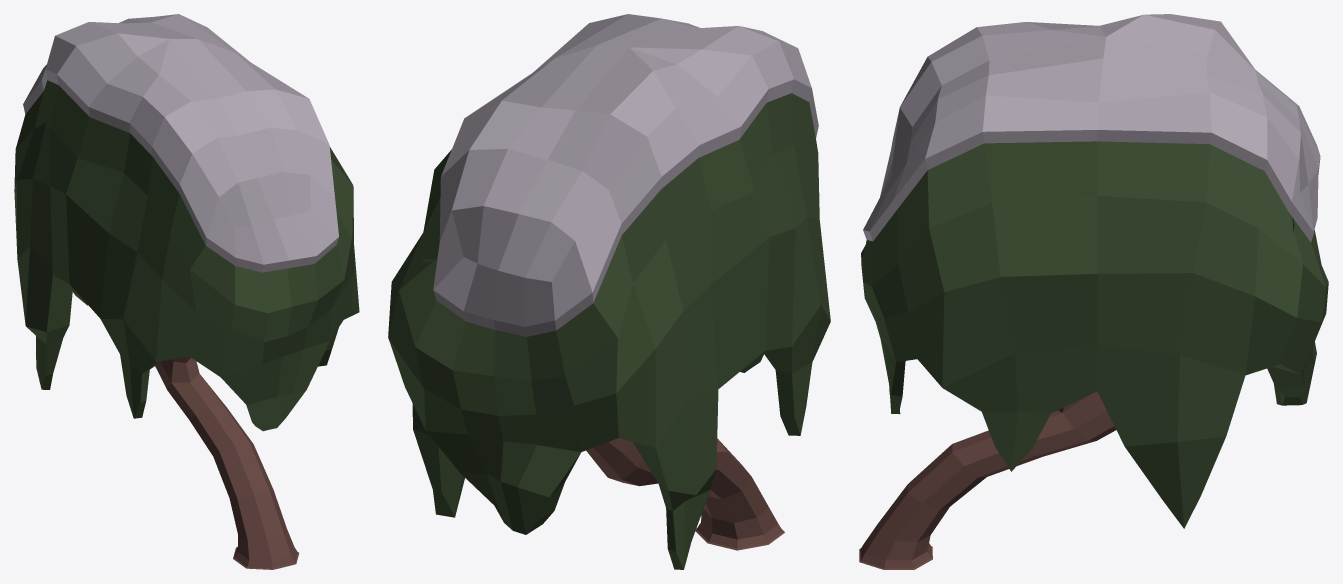
The model's file is Willow_Snow_3.gltf.
The picture shows the model from 3 angles, left to right: view 1: azimuth 30°, elevation 25°; view 2: azimuth 150°, elevation 25°; view 3: azimuth 270°, elevation 25°; orthographic projection. The views are drawn at different scales.
Parts seen in each view (by area): view 1: Willow_Snow_3; view 2: Willow_Snow_3; view 3: Willow_Snow_3.
Boxes of the visible parts, left/top/right/bottom form: Willow_Snow_3: left=14, top=14, right=359, bottom=569; Willow_Snow_3: left=388, top=14, right=830, bottom=569; Willow_Snow_3: left=859, top=14, right=1328, bottom=569.
Bounding box in the file's own units: 1.32 × 2.41 × 1.98.
